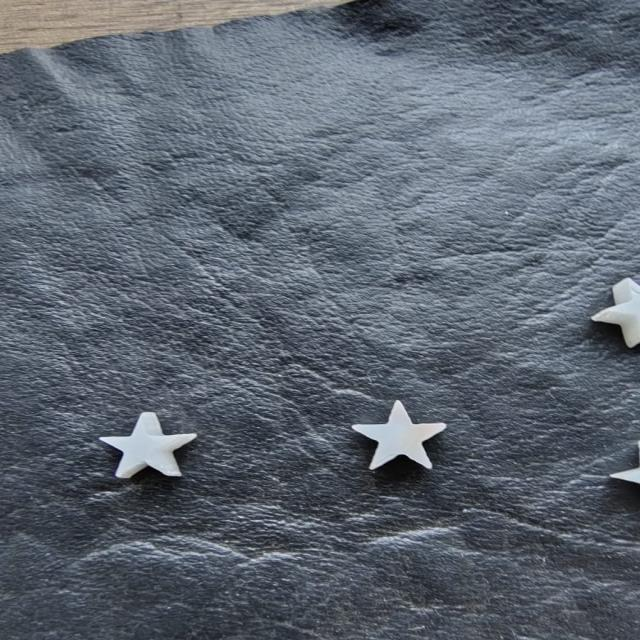estrellas: (351, 400, 445, 468), (100, 414, 181, 476)
